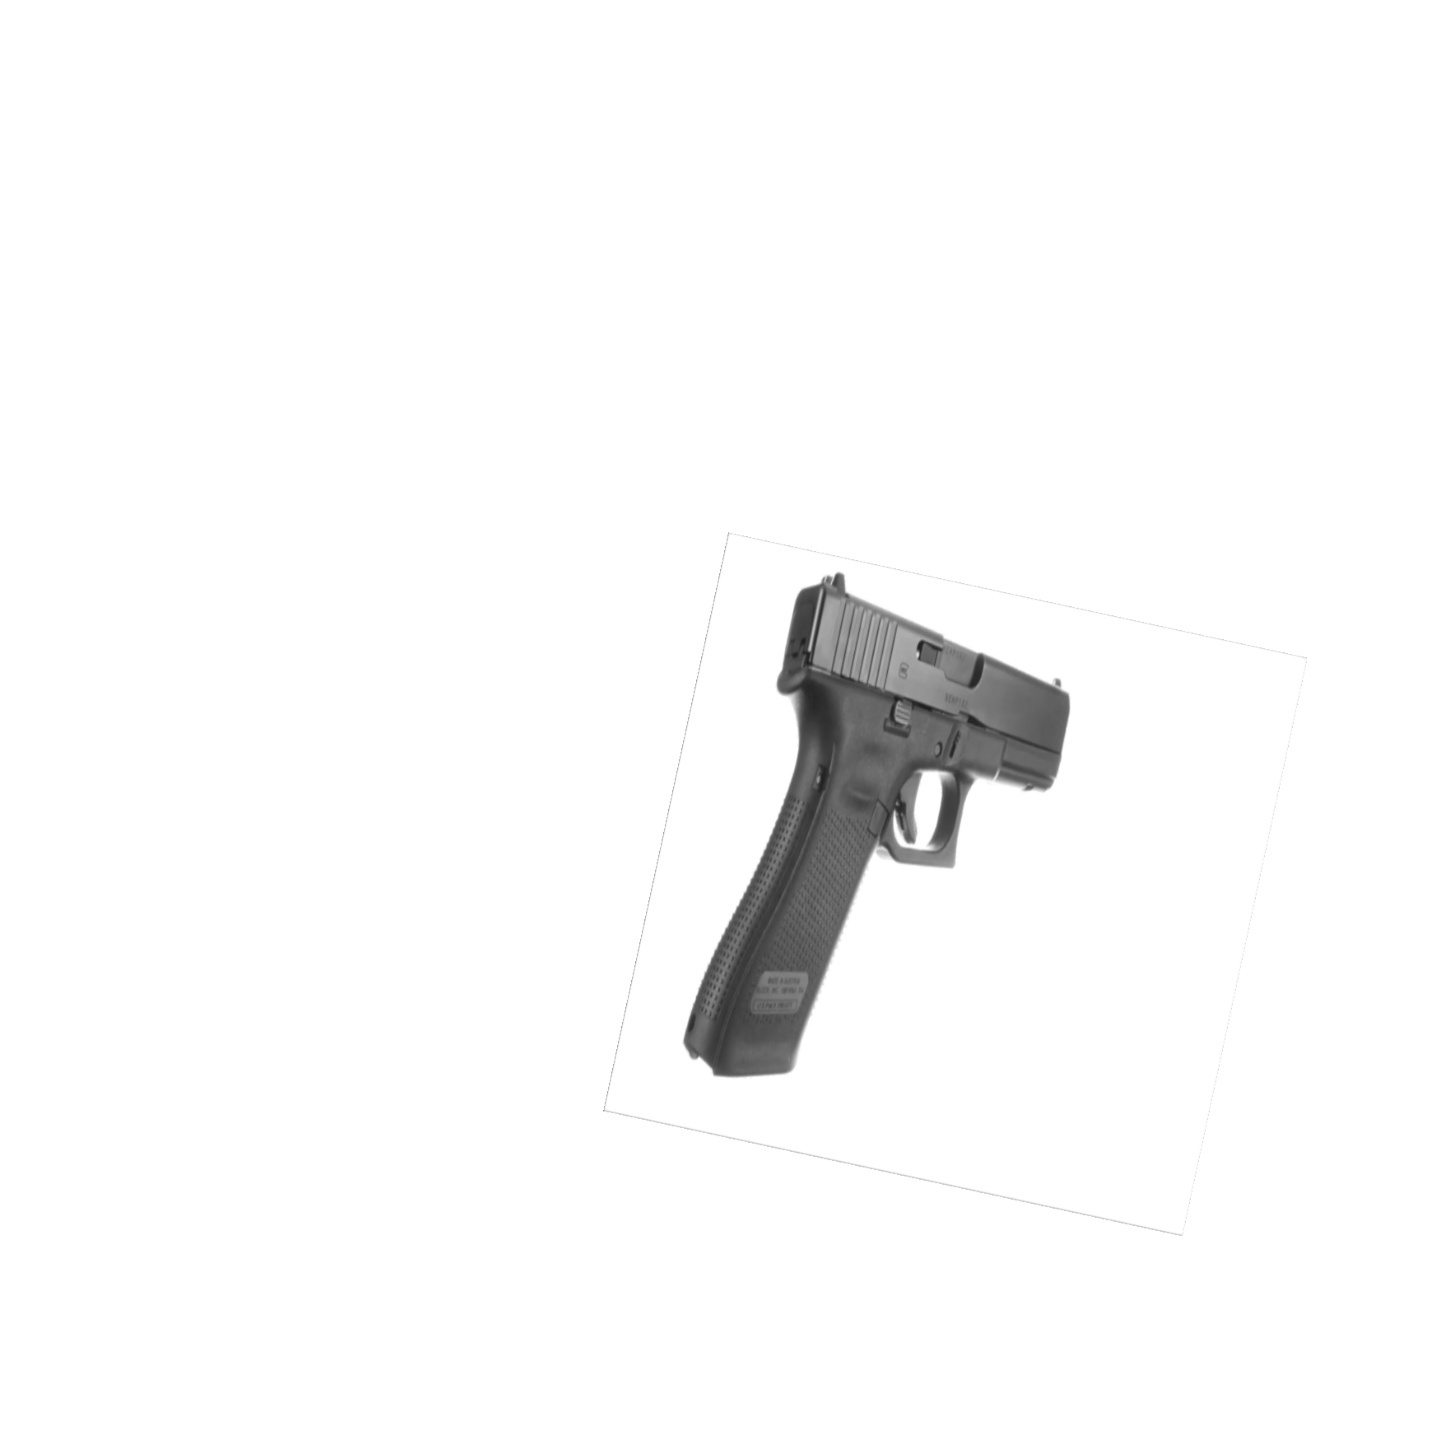gun: (685, 573, 1071, 1078)
